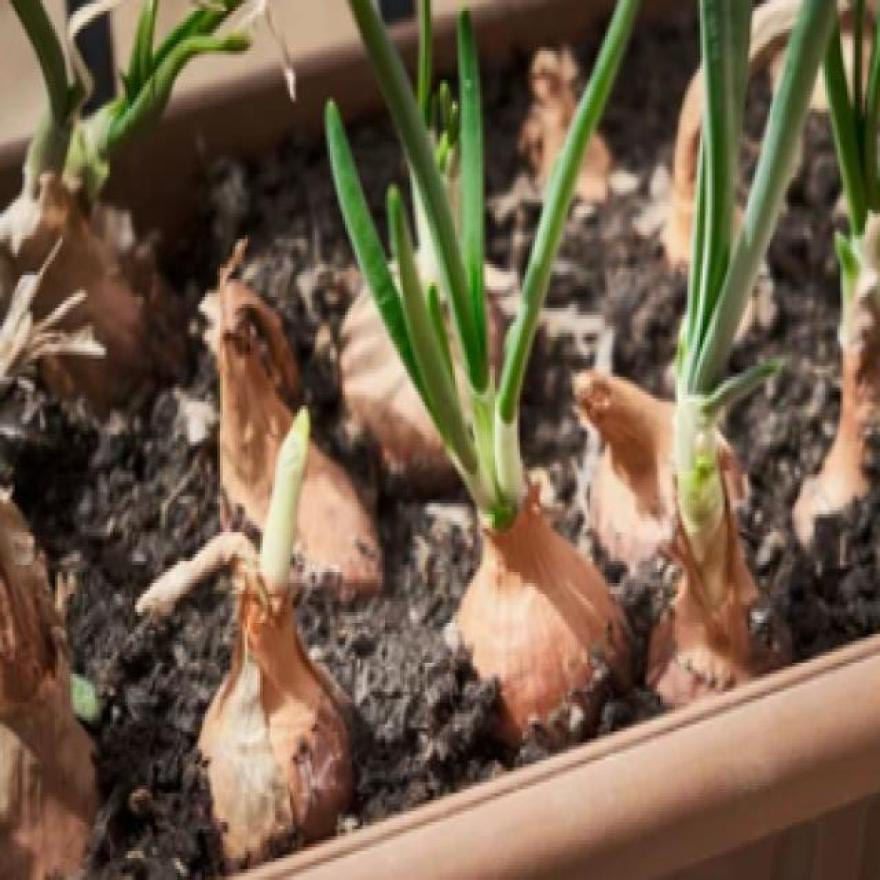Sprouted: (420, 322, 542, 536), (674, 178, 735, 536), (814, 90, 870, 322), (240, 449, 298, 604), (42, 50, 90, 192)
